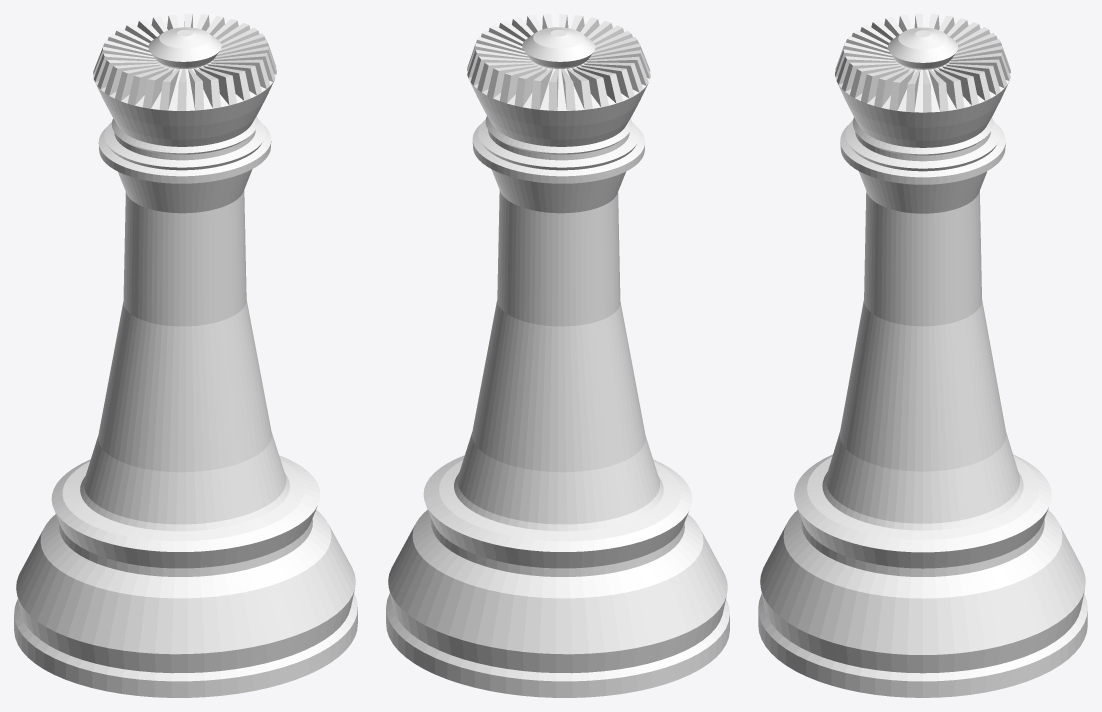
Rendered from QueenW.glb.
3 views of the same model, side by side, from view 1: azimuth 30°, elevation 25°; view 2: azimuth 150°, elevation 25°; view 3: azimuth 270°, elevation 25° (orthographic).
Visible parts, largest first — view 1: RookA8; view 2: RookA8; view 3: RookA8.
Boxes of the visible parts, left/top/right/bottom form: RookA8: left=14, top=14, right=357, bottom=697; RookA8: left=386, top=14, right=729, bottom=697; RookA8: left=758, top=14, right=1087, bottom=697.
Size of the model in its own units: 1.05 by 1.97 by 0.9981.
Materials: 1 (1 with a texture image).
